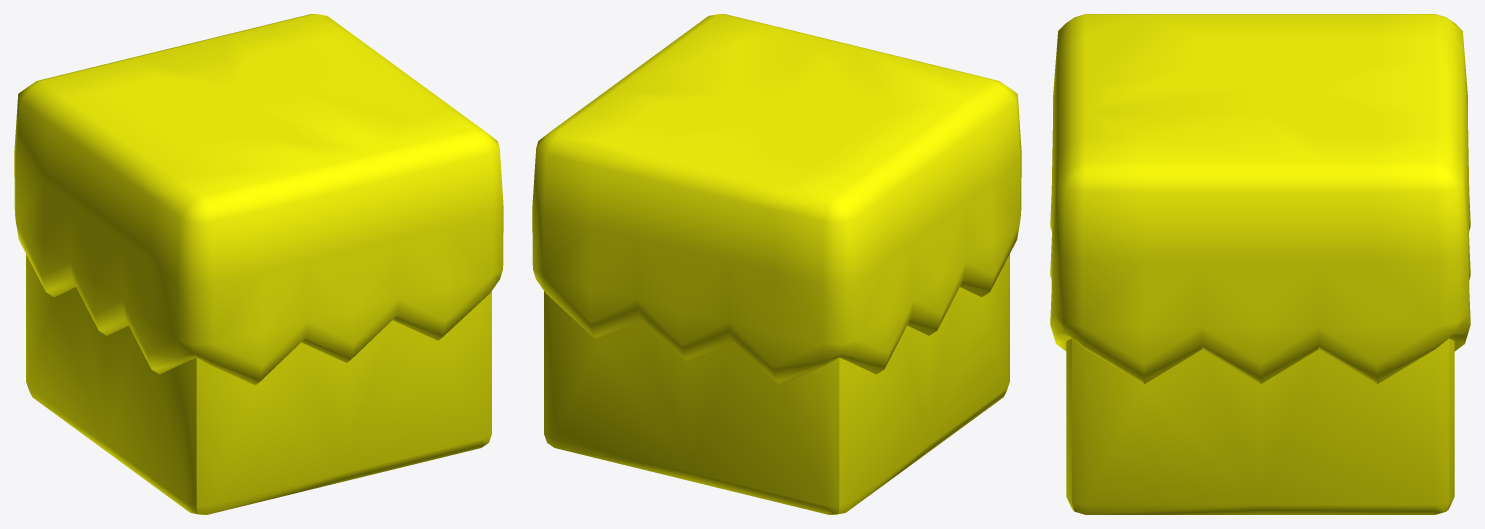
File: kaykit-tree.glb
The picture shows the model from 3 angles, left to right: view 1: azimuth 30°, elevation 25°; view 2: azimuth 150°, elevation 25°; view 3: azimuth 270°, elevation 25°; orthographic projection. The views are drawn at different scales.
Visible parts, largest first — view 1: tree; view 2: tree; view 3: tree.
Part boxes in pixels (x1,y1,x2,y2): tree: (14,14,503,514); tree: (532,14,1021,514); tree: (1050,14,1470,514).
Size of the model in its own units: 2.17 by 2 by 2.17.
